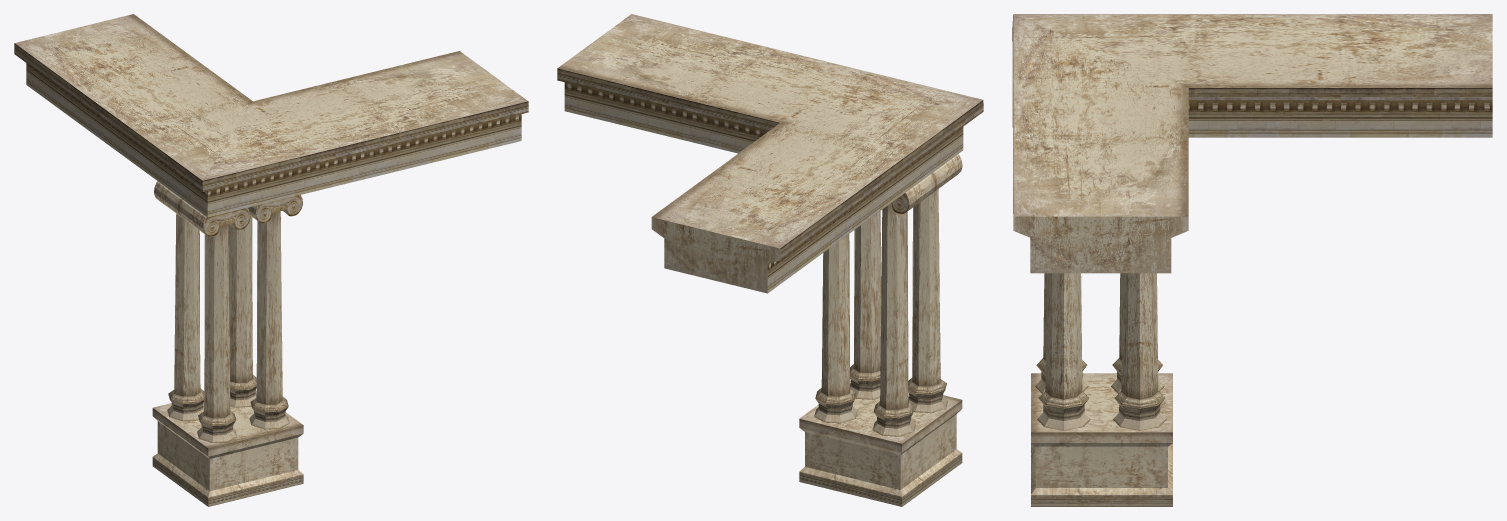
The model's file is svpergola4.dae.
3 renders of one model, left to right at view 1: azimuth 30°, elevation 25°; view 2: azimuth 150°, elevation 25°; view 3: azimuth 270°, elevation 25°, orthographic. The views are drawn at different scales.
Visible parts, largest first — view 1: cube4_copy14-0; view 2: cube4_copy14-0; view 3: cube4_copy14-0.
Part boxes in pixels (x1,y1,x2,y2): cube4_copy14-0: [14, 14, 528, 506]; cube4_copy14-0: [557, 14, 983, 506]; cube4_copy14-0: [1012, 14, 1492, 506].
Size of the model in its own units: 612 by 600 by 613.
